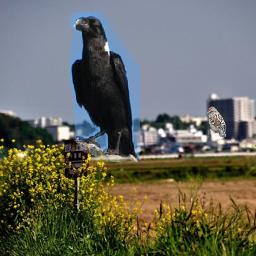Crow: (70, 12, 141, 162)
Sparrow: (206, 107, 226, 138)
